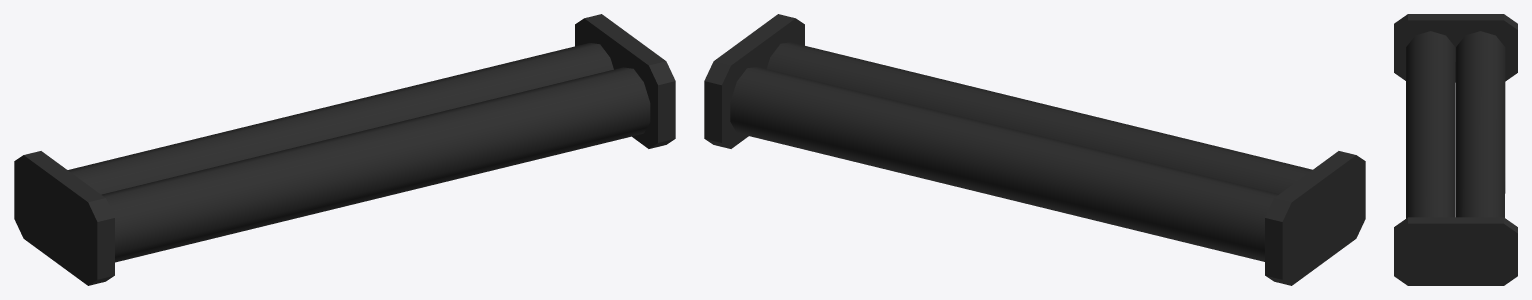
The model's file is Pfb_Soda_Pipe.fbx.
3 renders of one model, left to right at view 1: azimuth 30°, elevation 25°; view 2: azimuth 150°, elevation 25°; view 3: azimuth 270°, elevation 25°, orthographic. The views are drawn at different scales.
Parts seen in each view (by area): view 1: MAT_Soda_Pipe; view 2: MAT_Soda_Pipe; view 3: MAT_Soda_Pipe.
Boxes of the visible parts, x1=… form: MAT_Soda_Pipe: x1=14, y1=14, x2=675, y2=285; MAT_Soda_Pipe: x1=704, y1=14, x2=1365, y2=285; MAT_Soda_Pipe: x1=1394, y1=14, x2=1517, y2=285.
Bounding box in the file's own units: 2.87 × 0.3963 × 0.7141.
Materials: 1 (1 with a texture image).
